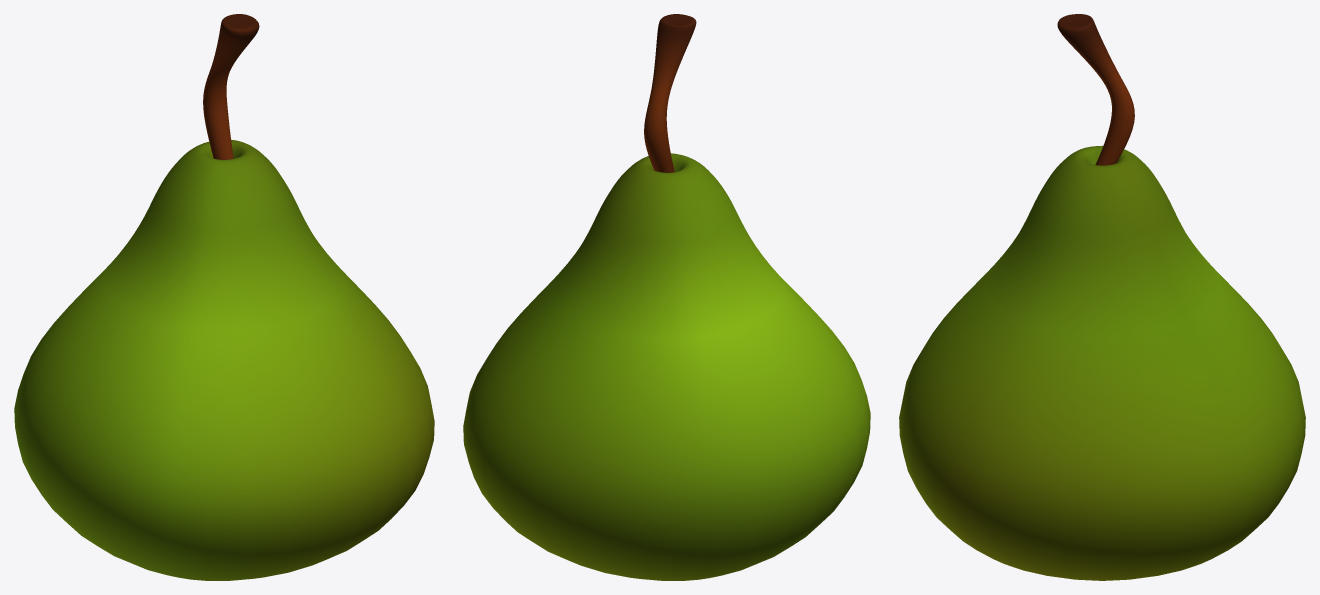
Rendered from Pera.fbx.
3 renders of one model, left to right at view 1: azimuth 30°, elevation 25°; view 2: azimuth 150°, elevation 25°; view 3: azimuth 270°, elevation 25°, orthographic. The views are drawn at different scales.
Parts seen in each view (by area): view 1: Pera, Cube; view 2: Pera, Cube; view 3: Pera, Cube.
Part boxes in pixels (box(x1,y1,x2,y2)): Pera: box(14, 139, 434, 580); Cube: box(203, 14, 259, 159); Pera: box(463, 153, 870, 580); Cube: box(644, 14, 696, 172); Pera: box(899, 145, 1305, 580); Cube: box(1057, 14, 1134, 165).
Bounding box in the file's own units: 7.02 × 10.18 × 7.02.
